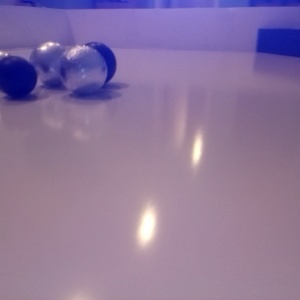alive_ball: (57, 44, 107, 95), (28, 41, 71, 87), (1, 51, 14, 90)
dead_ball: (79, 42, 116, 85), (1, 56, 38, 96)
